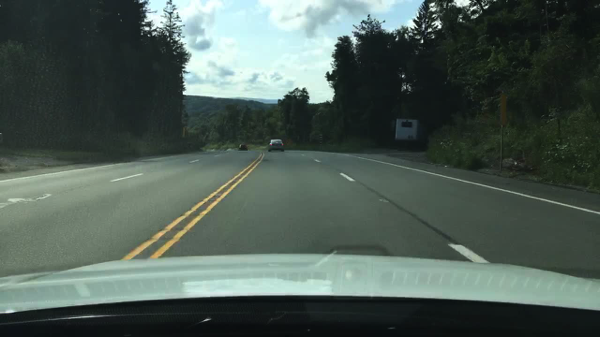car: (267, 139, 283, 153), (238, 144, 248, 150)
traffic sign: (499, 92, 507, 125)
truck: (393, 118, 427, 148)
